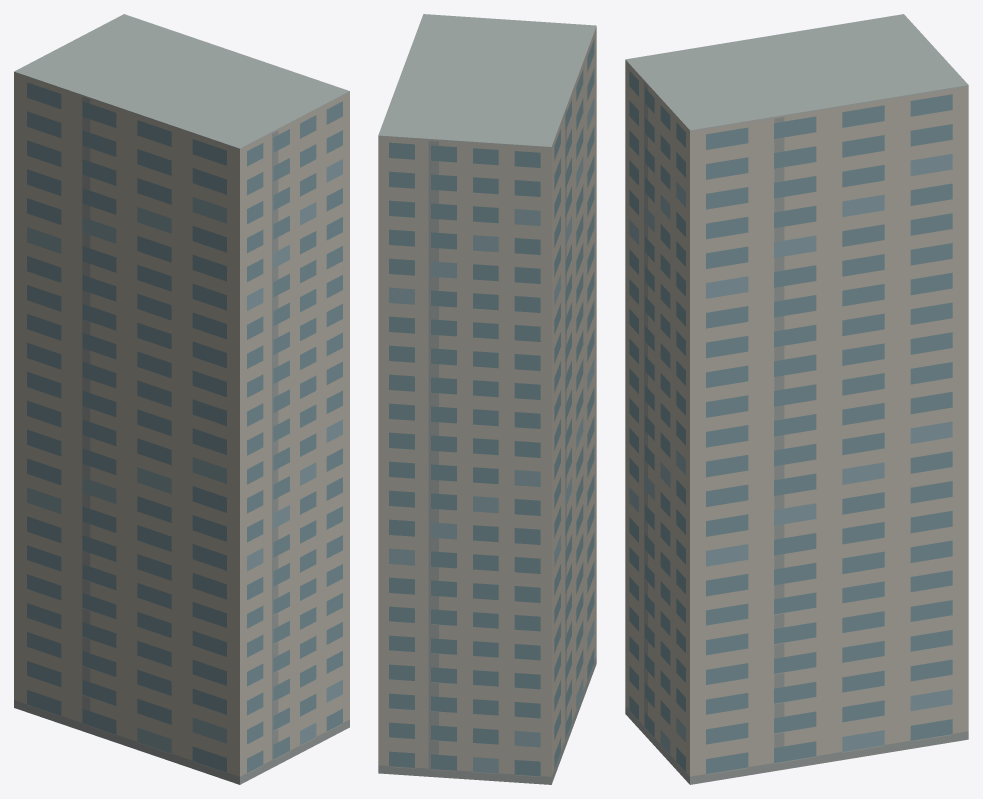
File: residential-d746f6b0-2e09-4ddc-98d3-2b97c5f29caf.glb
3 renders of one model, left to right at view 1: azimuth 30°, elevation 25°; view 2: azimuth 150°, elevation 25°; view 3: azimuth 270°, elevation 25°, orthographic. The views are drawn at different scales.
Parts seen in each view (by area): view 1: residential-d746f6b0-2e09-4ddc-98d3-2b97c5f29caf.tmp; view 2: residential-d746f6b0-2e09-4ddc-98d3-2b97c5f29caf.tmp; view 3: residential-d746f6b0-2e09-4ddc-98d3-2b97c5f29caf.tmp.
Part boxes in pixels (left/top/right/bottom): residential-d746f6b0-2e09-4ddc-98d3-2b97c5f29caf.tmp: left=14, top=14, right=349, bottom=784; residential-d746f6b0-2e09-4ddc-98d3-2b97c5f29caf.tmp: left=378, top=14, right=596, bottom=784; residential-d746f6b0-2e09-4ddc-98d3-2b97c5f29caf.tmp: left=625, top=14, right=968, bottom=784.
Size of the model in its own units: 30.9 by 81 by 38.52.
